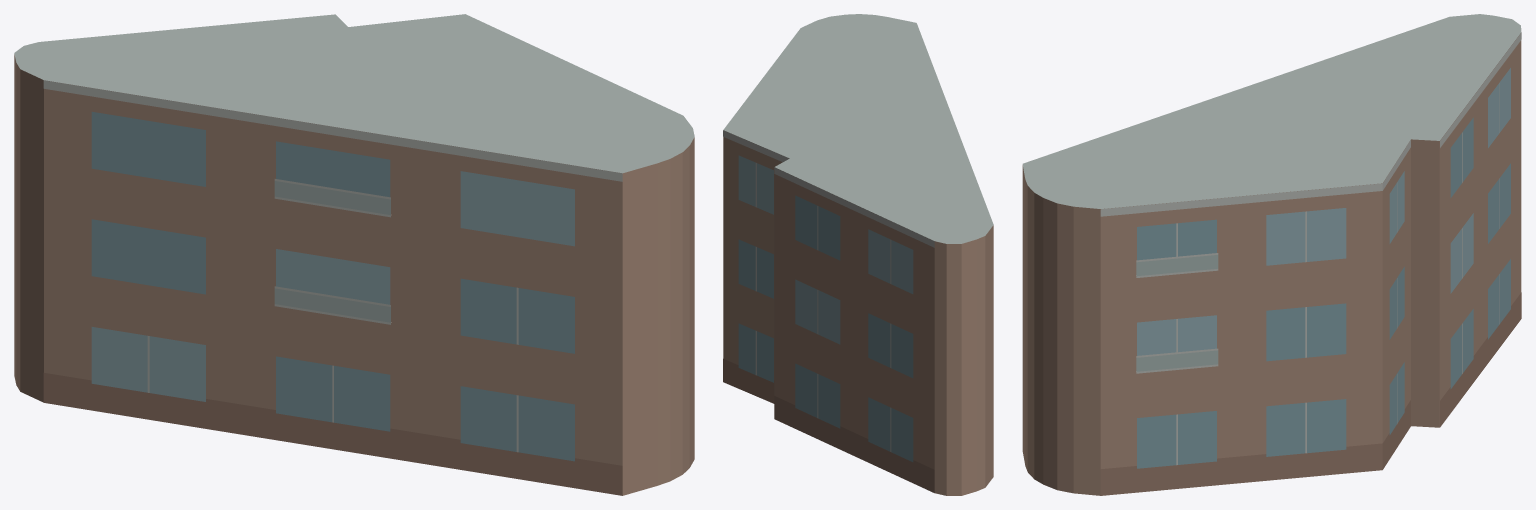
The model's file is survey-upis-32956053.glb.
The picture shows the model from 3 angles, left to right: view 1: azimuth 30°, elevation 25°; view 2: azimuth 150°, elevation 25°; view 3: azimuth 270°, elevation 25°; orthographic projection. The views are drawn at different scales.
Parts seen in each view (by area): view 1: survey-upis-32956053.tmp; view 2: survey-upis-32956053.tmp; view 3: survey-upis-32956053.tmp.
Part boxes in pixels (x1,y1,x2,y2): survey-upis-32956053.tmp: [14, 14, 694, 495]; survey-upis-32956053.tmp: [723, 14, 993, 495]; survey-upis-32956053.tmp: [1022, 14, 1521, 495].
Size of the model in its own units: 13.36 by 9.15 by 14.43.
